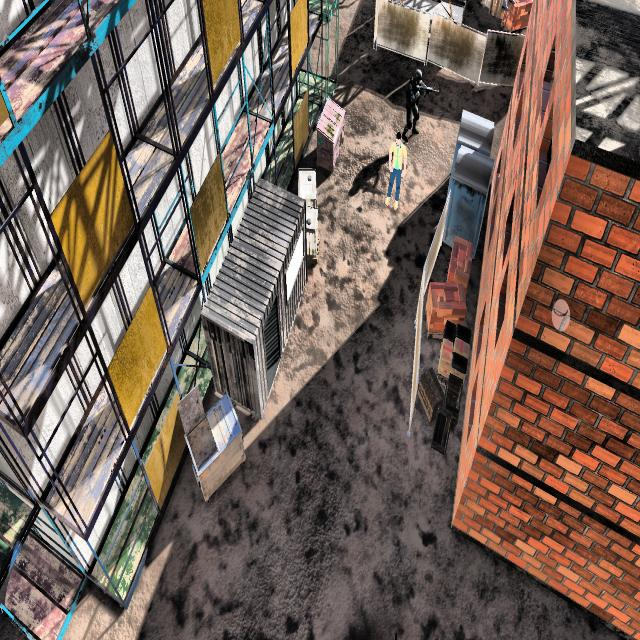bad: (402, 54, 431, 140)
good: (384, 126, 406, 215)
